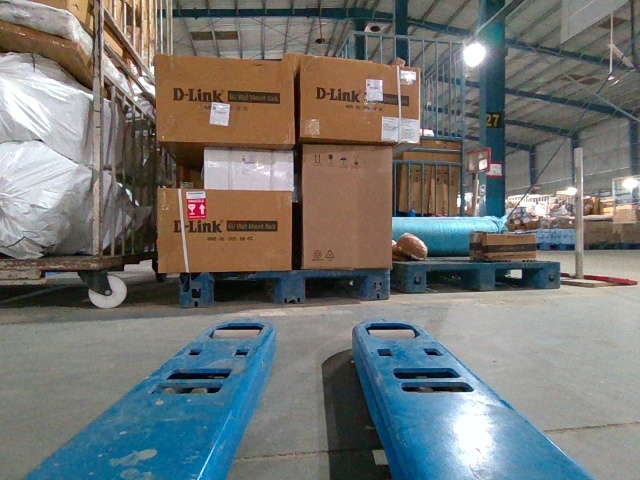block: (177, 271, 216, 308), (278, 270, 305, 308), (364, 268, 391, 302), (404, 266, 425, 293), (476, 263, 495, 292), (539, 262, 559, 289)
front: (180, 268, 392, 306), (407, 262, 562, 294)
hole pallet: (213, 272, 283, 302), (300, 271, 369, 300), (492, 262, 547, 289), (426, 265, 483, 289)
